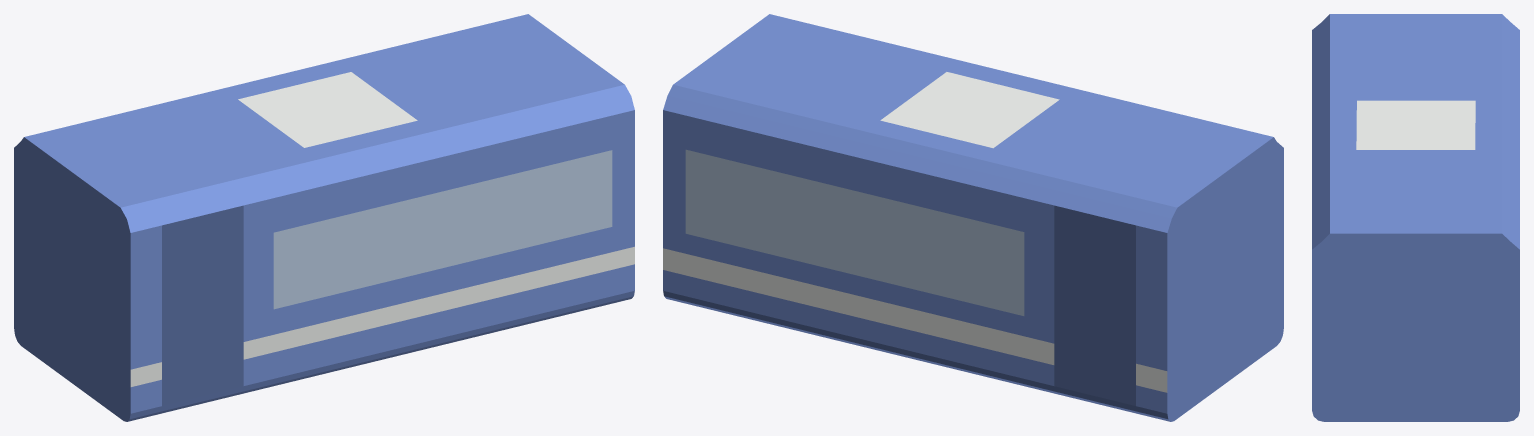
File: TrainMid.glb
The picture shows the model from 3 angles, left to right: view 1: azimuth 30°, elevation 25°; view 2: azimuth 150°, elevation 25°; view 3: azimuth 270°, elevation 25°; orthographic projection. The views are drawn at different scales.
Visible parts, largest first — view 1: TrainMid; view 2: TrainMid; view 3: TrainMid.
Part boxes in pixels (x1,y1,x2,y2): TrainMid: (14, 14, 634, 421); TrainMid: (663, 14, 1283, 421); TrainMid: (1312, 14, 1519, 421).
Size of the model in its own units: 1 by 0.4 by 0.4.
